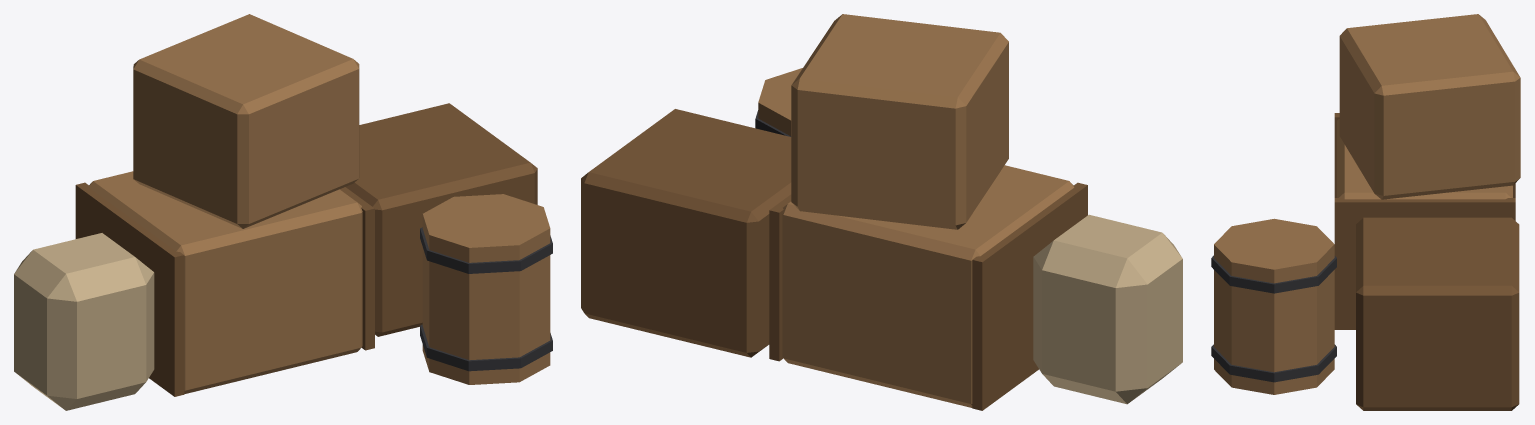
The model's file is crate_stack.glb.
3 renders of one model, left to right at view 1: azimuth 30°, elevation 25°; view 2: azimuth 150°, elevation 25°; view 3: azimuth 270°, elevation 25°, orthographic. The views are drawn at different scales.
Parts seen in each view (by area): view 1: crate_stack; view 2: crate_stack; view 3: crate_stack.
Part boxes in pixels (x1=…): crate_stack: x1=14, y1=14, x2=552, y2=410; crate_stack: x1=581, y1=14, x2=1182, y2=410; crate_stack: x1=1211, y1=14, x2=1520, y2=410.
Size of the model in its own units: 2.05 by 1.11 by 1.23.
